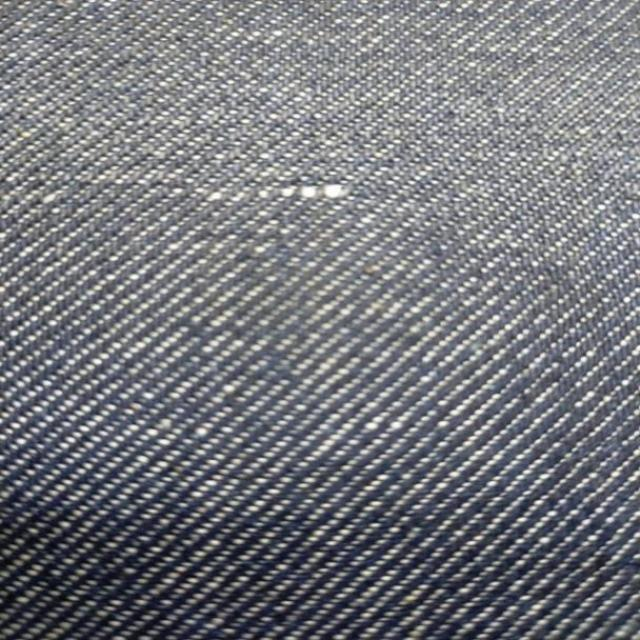Knot: (206, 184, 351, 202)
